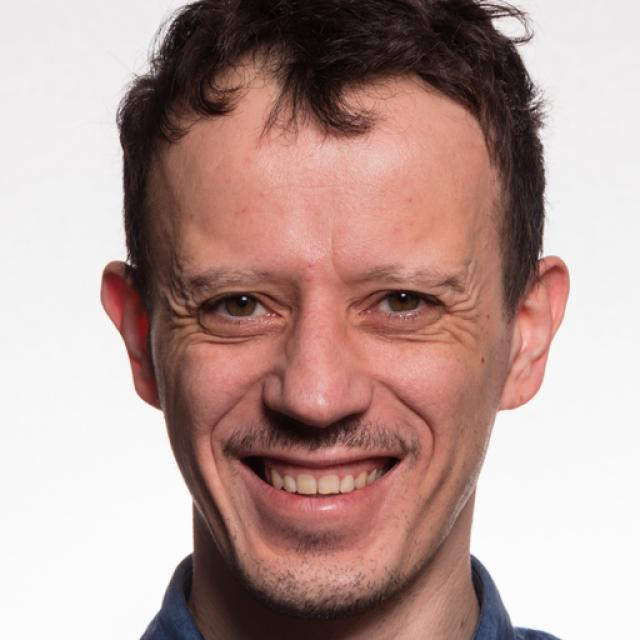happy: (156, 106, 512, 612)
